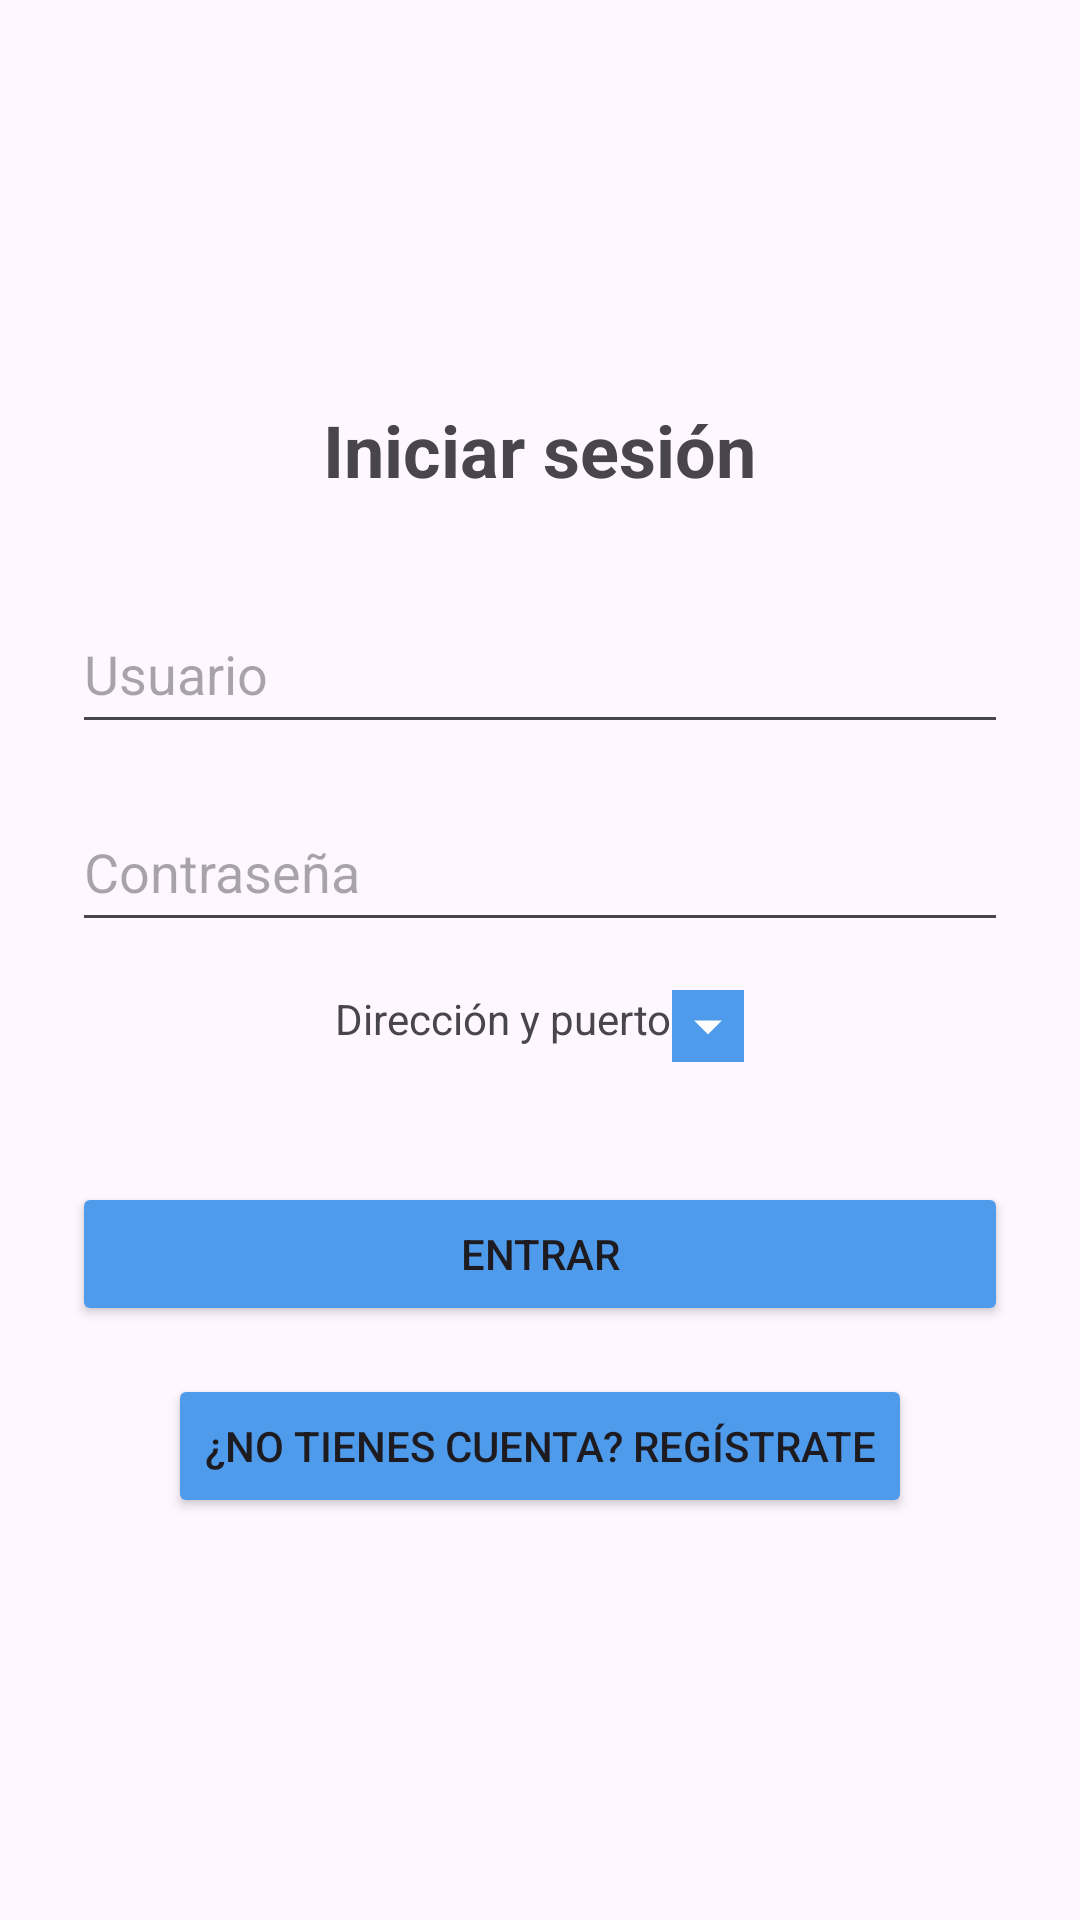

Named icons in this screenshot (1080px x 1920px) and their bounding boxes, bbox=(x1, y1, x2, y2):
drop down: bbox=(672, 990, 744, 1062)
